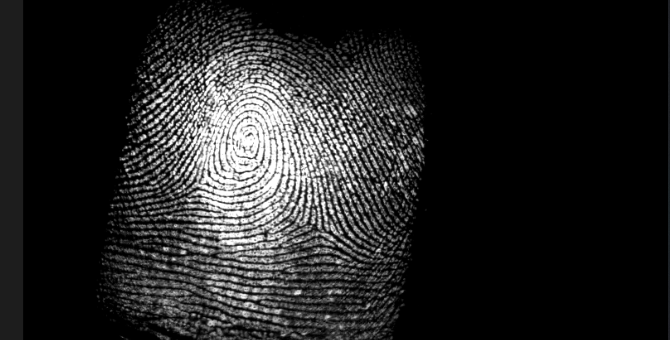deltas: (293, 196, 346, 247), (174, 158, 220, 199)
nucleo: (227, 113, 271, 168)
